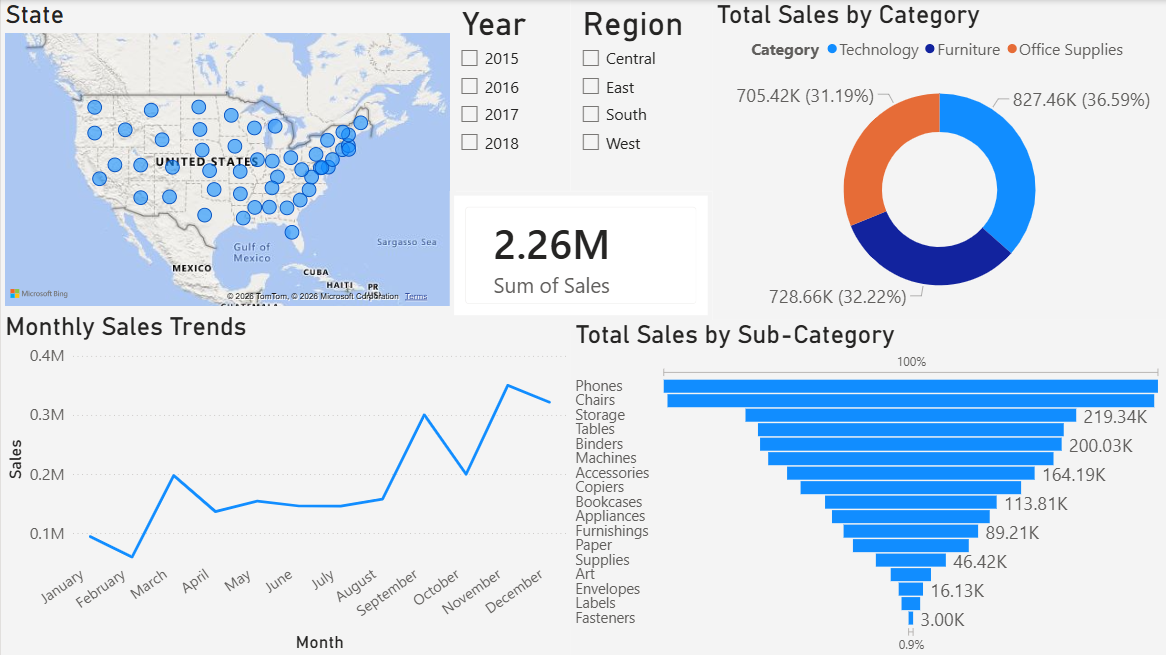

This screenshot's page, from the dashboard's own definition file:
{"tool":"powerbi","page":{"name":"Page 1","canvas":[1280,720],"ordinal":0},"visuals":[{"type":"lineChart","title":"Monthly Sales Trends","fields":{"Category":["train.Order Date.Variation.Date Hierarchy.Month"],"Y":["Sum(train.Sales)"]},"box":[0,341.7,625.7,378.7],"z":0},{"type":"donutChart","title":"Total Sales by Category","fields":{"Category":["train.Category"],"Y":["Sum(train.Sales)"]},"box":[780.8,0,499.5,351.3],"z":1000},{"type":"funnel","title":"Total Sales by Sub-Category","fields":{"Y":["Sum(train.Sales)"],"Category":["train.Sub-Category"]},"box":[625.7,351.3,654.5,369.1],"z":2000},{"type":"slicer","fields":{"Values":["train.Region"]},"box":[625.7,0,155.1,209.9],"z":3000},{"type":"slicer","fields":{"Values":["train.Order Date.Variation.Date Hierarchy.Year"]},"box":[492.6,0,133.1,209.9],"z":4000},{"type":"map","fields":{"Category":["train.State"]},"box":[0,0,498.1,341.7],"z":5000},{"type":"cardVisual","fields":{"Data":["Sum(train.Sales)"]},"box":[492.6,209.9,288.2,141.3],"z":6000}]}

Visuals, with their boxes in screenshot pixels (x1, y1, x2, y2), scaled from the page's 1280x720 canvas onto the 1166x655 screenshot:
"Monthly Sales Trends" lineChart: 0,311,570,654
"Total Sales by Category" donutChart: 711,0,1165,320
"Total Sales by Sub-Category" funnel: 570,320,1165,654
slicer - train.Region: 570,0,711,191
slicer - train.Order Date.Variation.Date Hierarchy.Year: 449,0,570,191
map - train.State: 0,0,454,311
cardVisual - Sum(train.Sales): 449,191,711,319
